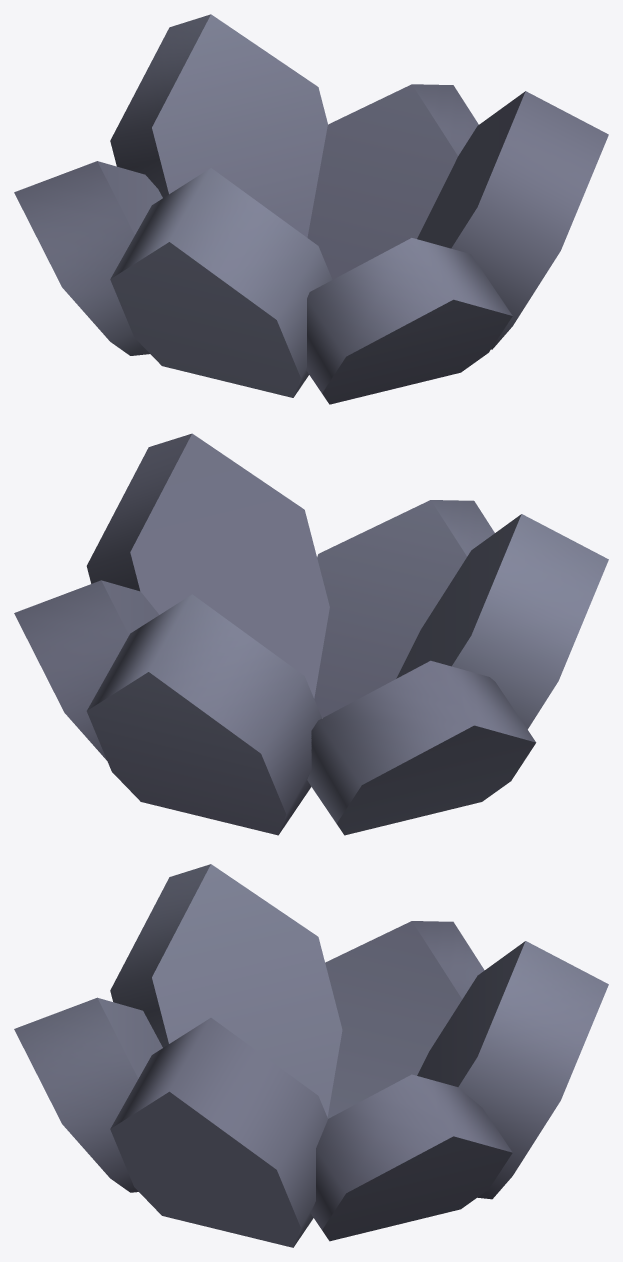
Rendered from grass-plant.fbx.
The picture shows the model from 3 angles, top to bottom: view 1: azimuth 30°, elevation 25°; view 2: azimuth 150°, elevation 25°; view 3: azimuth 270°, elevation 25°; orthographic projection. The views are drawn at different scales.
Visible parts, largest first — view 1: grass-plant; view 2: grass-plant; view 3: grass-plant.
Part boxes in pixels (x1,y1,x2,y2): grass-plant: (14,14,608,404); grass-plant: (14,433,608,835); grass-plant: (14,864,608,1247).
Bounding box in the file's own units: 111 × 51.96 × 124.
